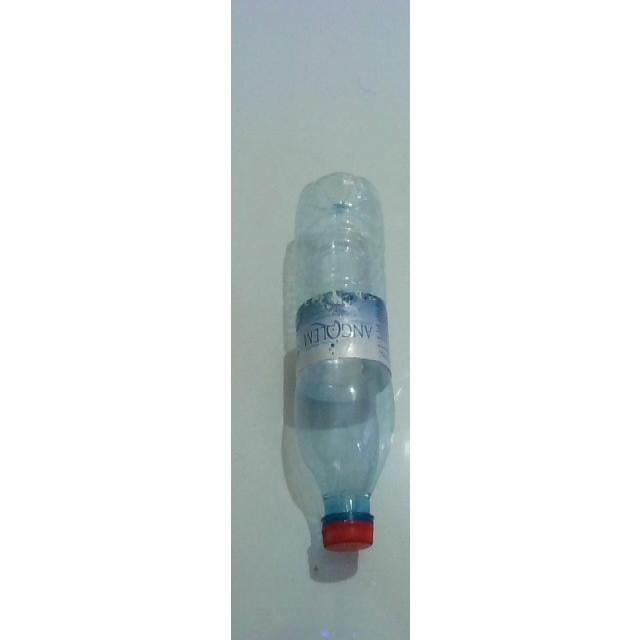plastic_bottle: (294, 172, 396, 552)
